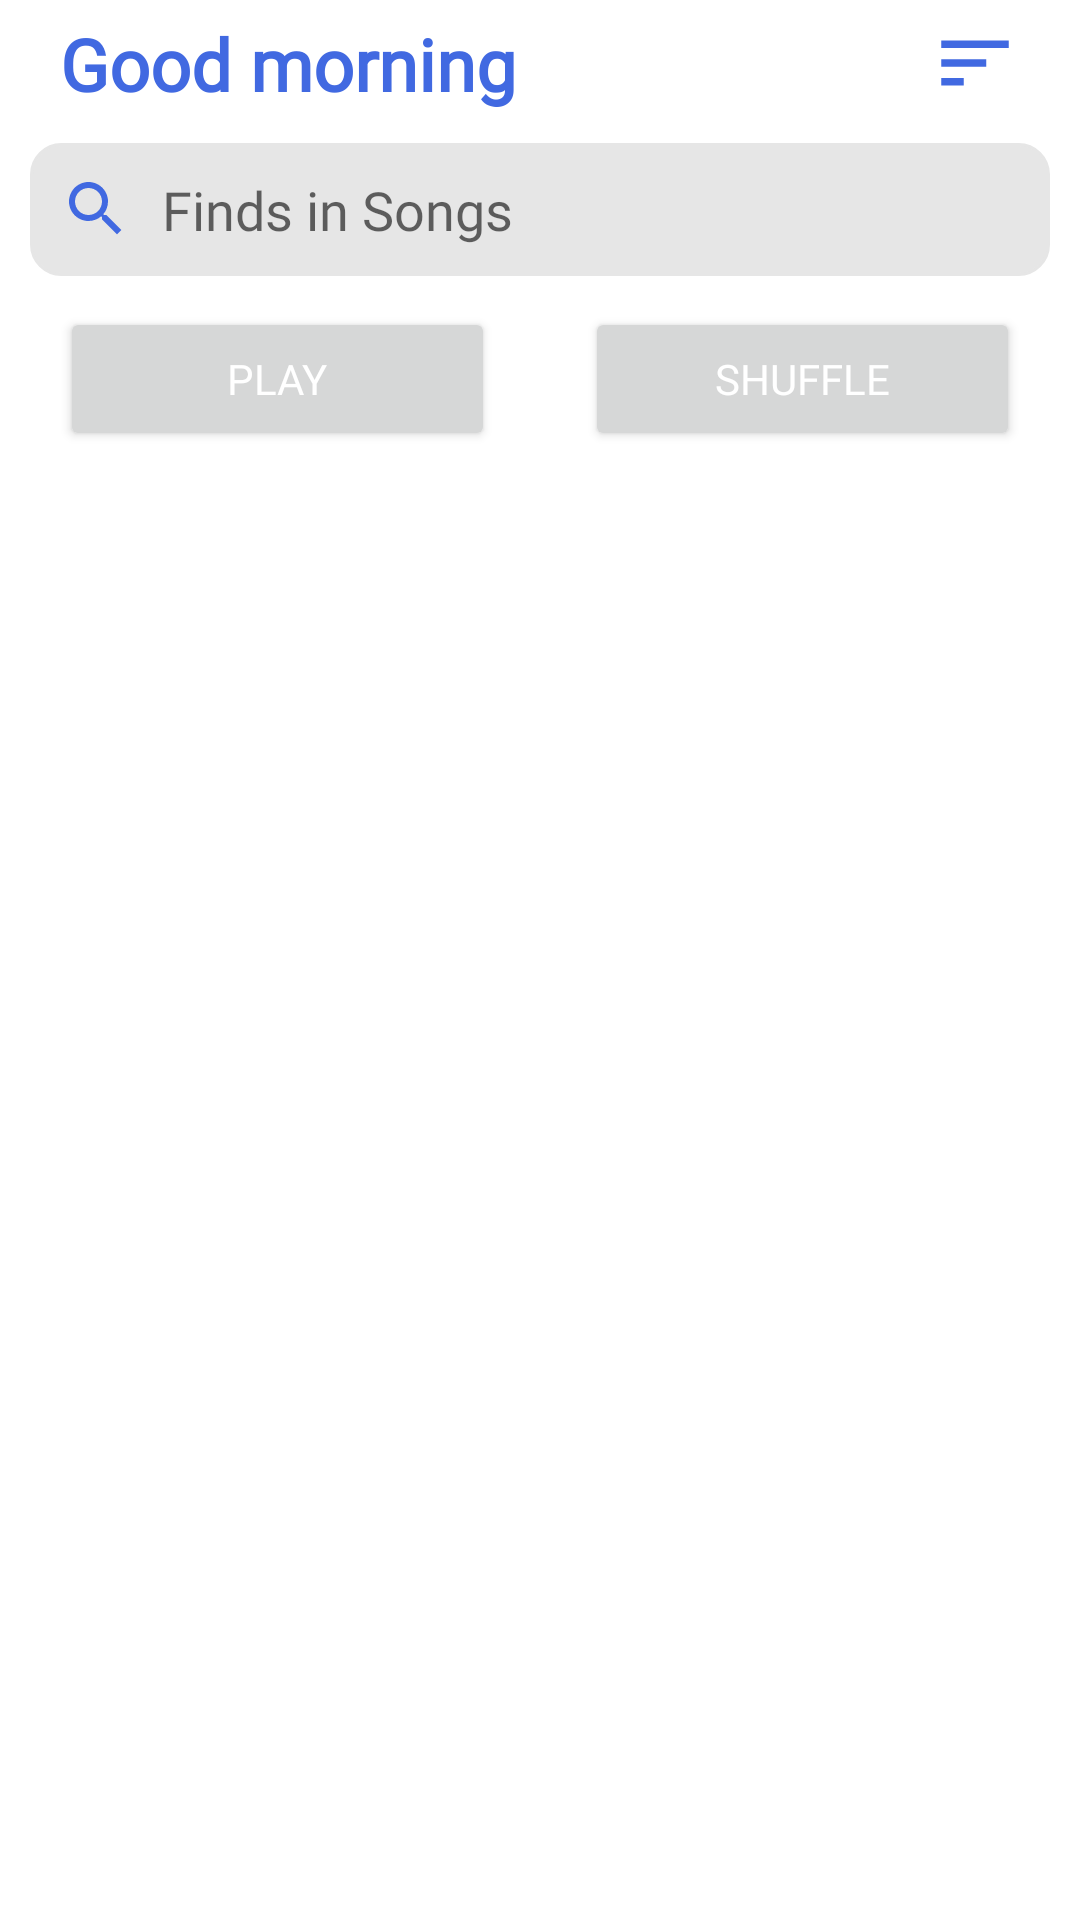

Named icons in this screenshot (1080 x 1920) and their bounding boxes, [x1=x1, y1=y1, x2=x2, y2=y2]:
sort: [x1=941, y1=40, x2=1009, y2=86]
